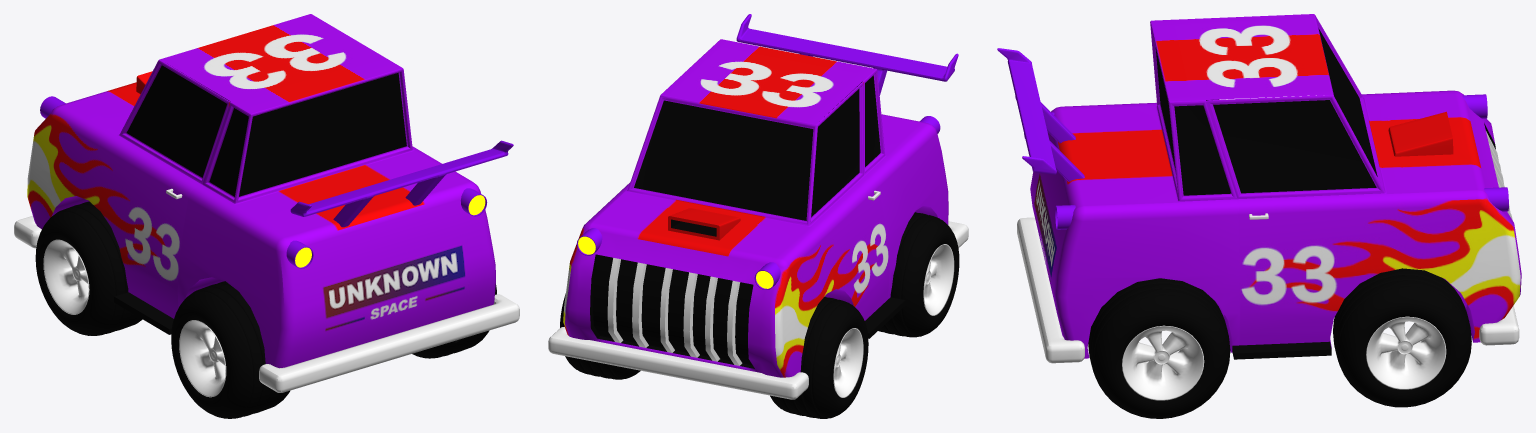
Rendered from 1261bbf1-f10d-468c-aa82-3e265157b018.glb.
3 renders of one model, left to right at view 1: azimuth 30°, elevation 25°; view 2: azimuth 150°, elevation 25°; view 3: azimuth 270°, elevation 25°, orthographic. The views are drawn at different scales.
Visible parts, largest first — view 1: pCube5, polySurface6, polySurface4, pCube3, pCube4, polySurface5, polySurface3, pCube7, polySurface8, pCube2, pCylinder7, pCylinder6; view 2: pCube5, pCube2, polySurface4, polySurface6, pCube4, polySurface5, polySurface3, polySurface10, pCube7, pCylinder5, pCylinder2; view 3: pCube5, polySurface8, polySurface10, polySurface7, polySurface9, pCube4, pCube3, pCube6, pCube2.
Boxes of the visible parts, x1,y1,x2,y2 form: pCube5: (27, 14, 495, 368); polySurface6: (171, 281, 289, 418); polySurface4: (35, 201, 142, 335); pCube3: (259, 294, 519, 392); pCube4: (290, 140, 513, 227); polySurface5: (179, 320, 226, 397); polySurface3: (43, 239, 89, 314); pCube7: (114, 292, 173, 334); polySurface8: (412, 284, 496, 358); pCube2: (14, 215, 41, 248); pCylinder7: (286, 240, 313, 268); pCylinder6: (460, 188, 487, 216); pCube5: (563, 39, 948, 377); pCube2: (548, 327, 808, 399); polySurface4: (770, 296, 868, 418); polySurface6: (878, 212, 959, 337); pCube4: (736, 14, 958, 95); polySurface5: (923, 244, 954, 315); polySurface3: (833, 328, 863, 397); polySurface10: (560, 293, 640, 379); pCube7: (864, 297, 905, 338); pCylinder5: (754, 262, 780, 289); pCylinder2: (576, 228, 602, 255); pCube5: (1030, 14, 1521, 358); polySurface8: (1088, 278, 1230, 418); polySurface10: (1333, 268, 1471, 407); polySurface7: (1122, 325, 1204, 400); polySurface9: (1366, 316, 1446, 389); pCube4: (997, 48, 1084, 181); pCube3: (1017, 217, 1084, 363); pCube6: (1232, 341, 1331, 359); pCube2: (1479, 305, 1519, 345).
Bounding box in the file's own units: 0.0476 × 0.0421 × 0.0678.
7 materials, 1 textured.
